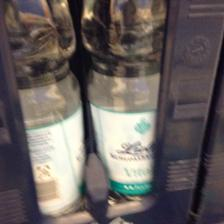Wasser: (4, 0, 84, 216), (80, 0, 164, 202)
